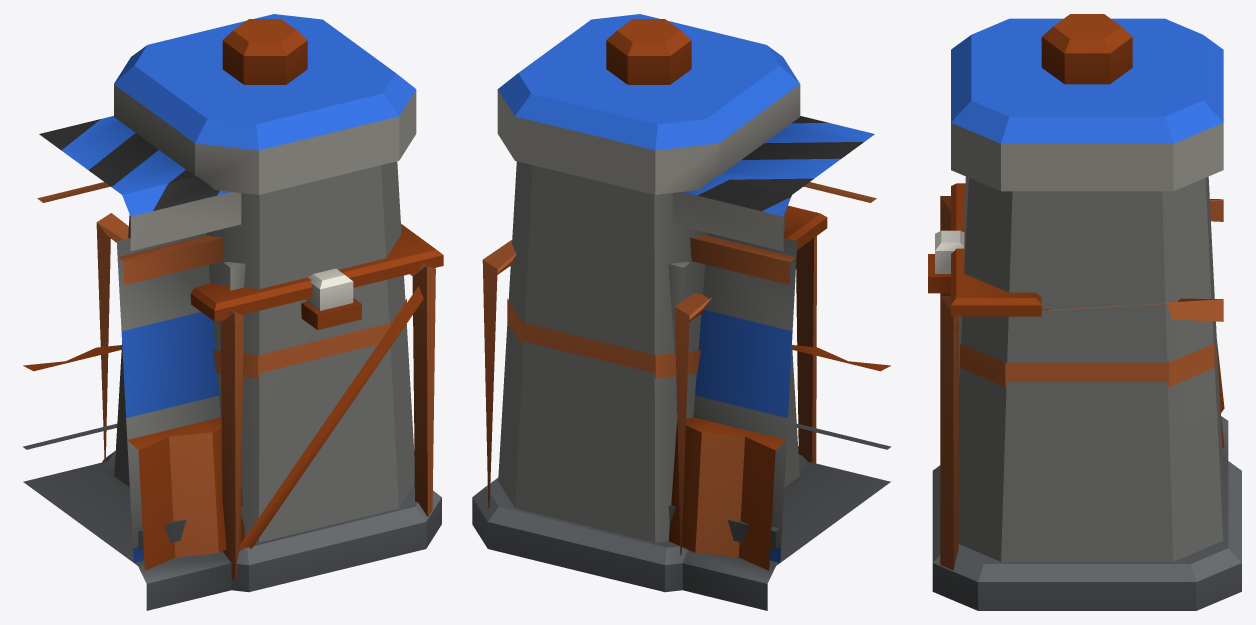
File: a_b08_end.glb
3 renders of one model, left to right at view 1: azimuth 30°, elevation 25°; view 2: azimuth 150°, elevation 25°; view 3: azimuth 270°, elevation 25°, orthographic. The views are drawn at different scales.
Parts seen in each view (by area): view 1: body, scaffoldFrame; view 2: body, scaffoldFrame; view 3: body, scaffoldFrame.
Boxes of the visible parts, bbox=[...] form: body: bbox=[23, 14, 441, 610]; scaffoldFrame: bbox=[96, 213, 443, 580]; body: bbox=[472, 14, 891, 610]; scaffoldFrame: bbox=[482, 205, 827, 555]; body: bbox=[928, 14, 1241, 610]; scaffoldFrame: bbox=[940, 183, 1223, 570].
Size of the model in its own units: 0.84 by 1.26 by 0.69.
